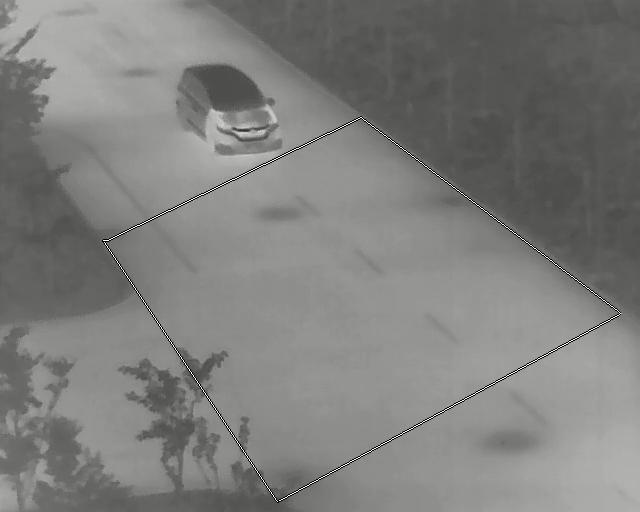vehicle: (173, 61, 285, 156)
